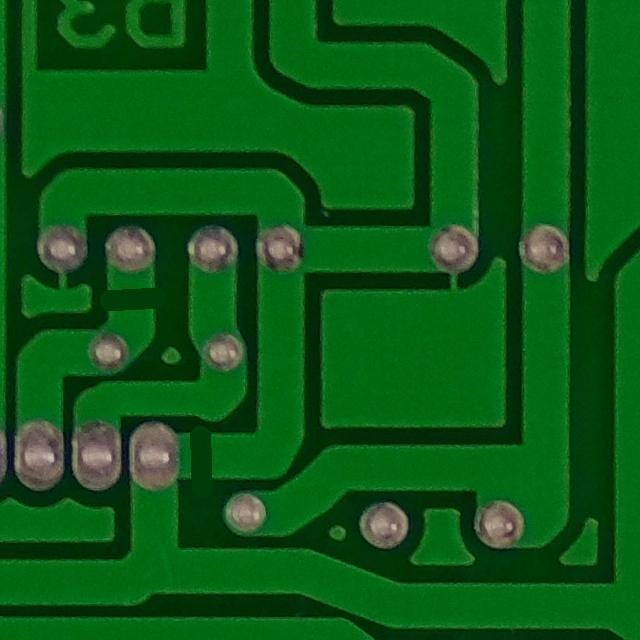open_circuit: (175, 418, 229, 495), (98, 273, 164, 331)
